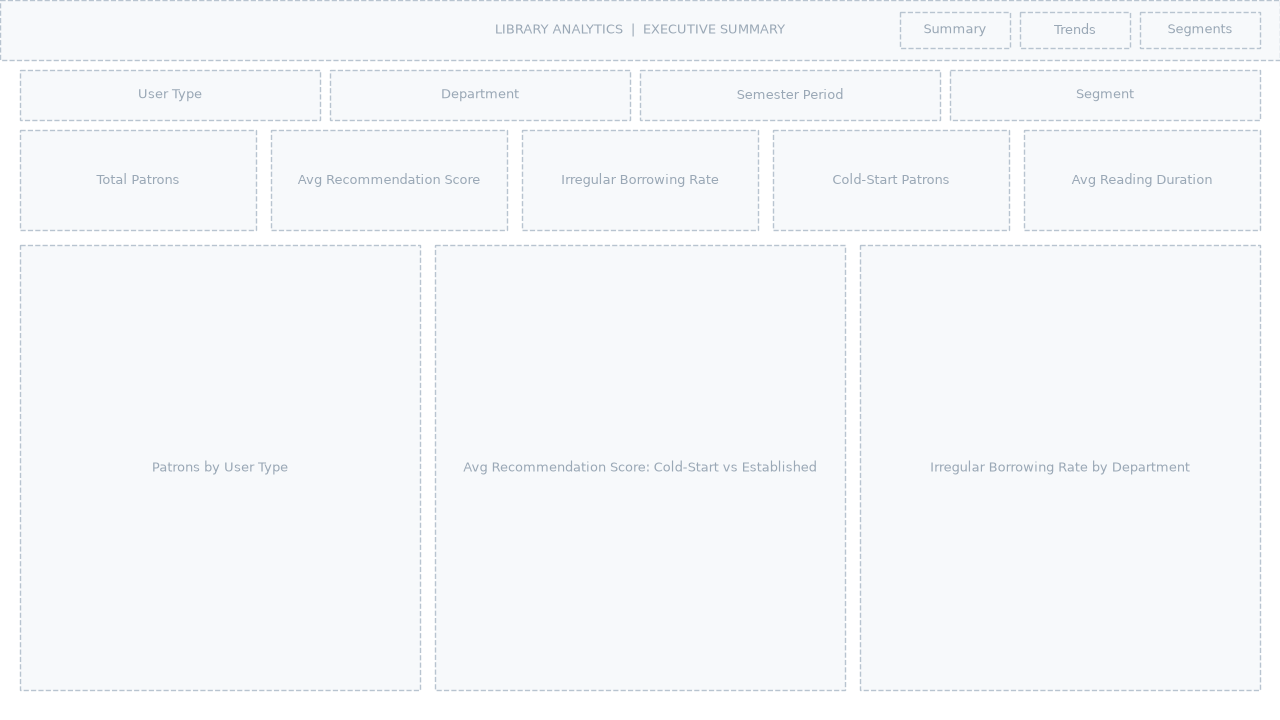

What the dashboard file says about the page in this screenshot:
{"tool":"powerbi","page":{"name":"Executive Summary","canvas":[1280,720],"ordinal":0},"visuals":[{"type":"cardVisual","fields":{"Data":["Library.Total Patrons"]},"box":[20,130,236,100],"z":0},{"type":"cardVisual","fields":{"Data":["Library.Avg Recommendation Score"]},"box":[271.7,130,236,100],"z":1000},{"type":"cardVisual","fields":{"Data":["Library.Irregular Borrowing Rate"]},"box":[522,130,236,100],"z":2000},{"type":"cardVisual","fields":{"Data":["Library.Cold-Start Share"]},"box":[773,130,236,100],"z":3000},{"type":"cardVisual","fields":{"Data":["Library.Avg Reading Duration"]},"box":[1024,130,236,100],"z":4000},{"type":"slicer","fields":{"Values":["Library.User_Type"]},"box":[20,70,300,60],"z":5000},{"type":"slicer","fields":{"Values":["Library.Department"]},"box":[330,70,300,60],"z":6000},{"type":"slicer","fields":{"Values":["Library.Semester_Period"]},"box":[640,70,300,60],"z":7000},{"type":"slicer","fields":{"Values":["Library.Segment"]},"box":[950,70,300,60],"z":8000},{"type":"donutChart","title":"Patrons by User Type","fields":{"Category":["Library.User_Type"],"Y":["Library.Total Patrons"]},"box":[20,245.7,400,445],"z":9000},{"type":"clusteredColumnChart","title":"Avg Recommendation Score: Cold-Start vs Established","fields":{"Category":["Library.Patron_Status"],"Y":["Library.Avg Recommendation Score"]},"box":[435,245,410,445],"z":10000},{"type":"clusteredBarChart","title":"Irregular Borrowing Rate by Department","fields":{"Category":["Library.Department"],"Y":["Library.Irregular Borrowing Rate"]},"box":[860,245,400,445],"z":11000},{"type":"shape","box":[0,0,1280,60],"z":12000},{"type":"textbox","box":[20,2.9,860,54],"z":13000},{"type":"pageNavigator","box":[900,12,360,36],"z":13001}]}

Visuals, with their boxes in screenshot pixels (x1, y1, x2, y2), scaled from the page's 1280x720 canvas onto the 1280x720 screenshot:
cardVisual - Library.Total Patrons: 20, 130, 256, 230
cardVisual - Library.Avg Recommendation Score: 272, 130, 508, 230
cardVisual - Library.Irregular Borrowing Rate: 522, 130, 758, 230
cardVisual - Library.Cold-Start Share: 773, 130, 1009, 230
cardVisual - Library.Avg Reading Duration: 1024, 130, 1260, 230
slicer - Library.User_Type: 20, 70, 320, 130
slicer - Library.Department: 330, 70, 630, 130
slicer - Library.Semester_Period: 640, 70, 940, 130
slicer - Library.Segment: 950, 70, 1250, 130
"Patrons by User Type" donutChart: 20, 246, 420, 691
"Avg Recommendation Score: Cold-Start vs Established" clusteredColumnChart: 435, 245, 845, 690
"Irregular Borrowing Rate by Department" clusteredBarChart: 860, 245, 1260, 690
shape: 0, 0, 1279, 60
textbox: 20, 3, 880, 57
pageNavigator: 900, 12, 1260, 48
